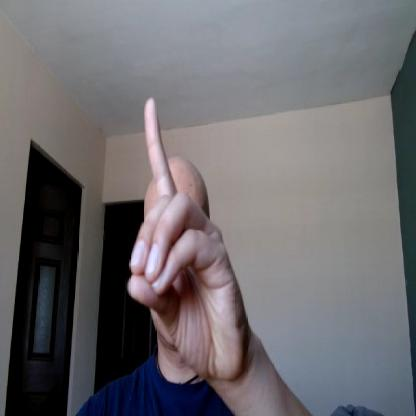D: (129, 97, 244, 383)
